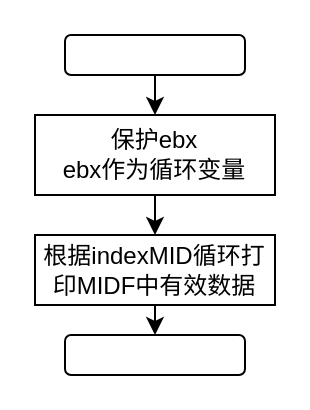
The diagram is 310 pixels wide and 410 high, and some of its shapes have lost their labels. The shapes that lost their labels are listed below. From the top down, each one's centre as x and y in pixels, then its label:
the point at 154,54: display
the point at 154,354: exit
